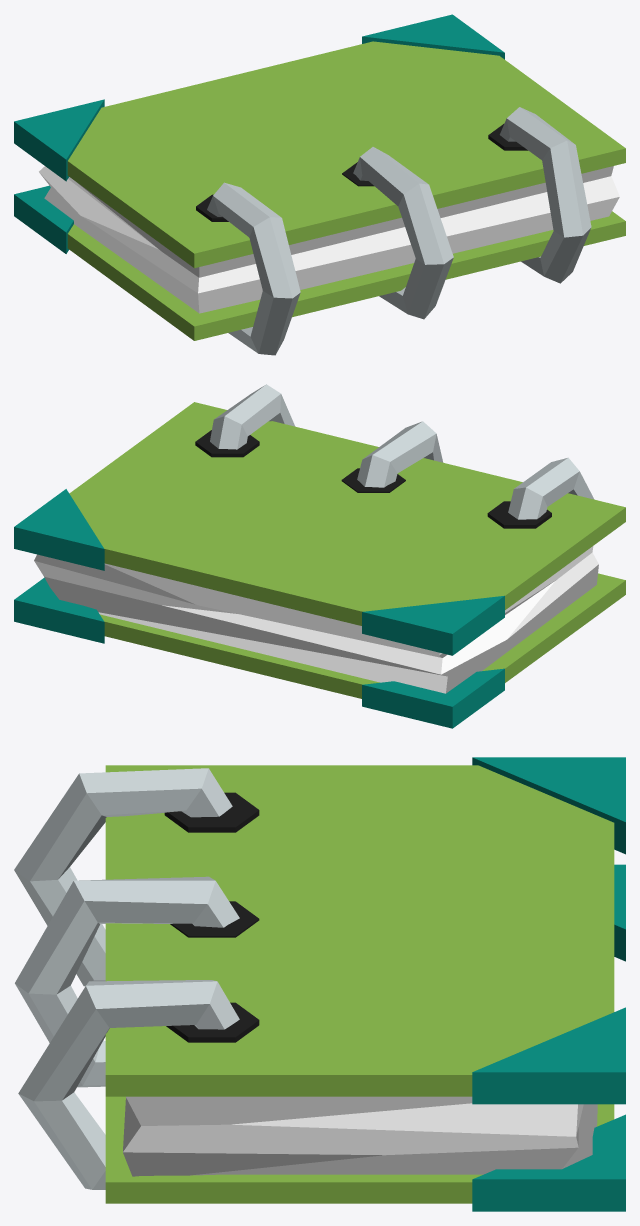
The model's file is notebook.obj.
The picture shows the model from 3 angles, top to bottom: view 1: azimuth 30°, elevation 25°; view 2: azimuth 150°, elevation 25°; view 3: azimuth 270°, elevation 25°; orthographic projection. The views are drawn at different scales.
Parts seen in each view (by area): view 1: group1733019088, group387823543, group1559348394, group81174589, group382559760, group673990593, group2126751848, group1445775804, group1952965966; view 2: group1733019088, group387823543, group1559348394, group2126751848, group1952965966, group1445775804, group2147022704, group81174589, group673990593, group382559760, group1912266361, group2119304424 (+1 smaller); view 3: group1733019088, group387823543, group673990593, group81174589, group382559760, group1559348394, group1445775804, group2147022704, group2126751848, group1912266361, group2119304424, group2001397548 (+1 smaller).
Part boxes in pixels (box(x1,y1,x2,y2)): group1733019088: box(67, 41, 625, 268); group387823543: box(39, 166, 619, 313); group1559348394: box(67, 211, 625, 340); group81174589: box(353, 147, 453, 319); group382559760: box(207, 182, 300, 355); group673990593: box(499, 107, 591, 283); group2126751848: box(14, 99, 104, 181); group1445775804: box(362, 14, 504, 59); group1952965966: box(14, 185, 73, 253); group1733019088: box(69, 402, 625, 625); group387823543: box(34, 546, 598, 693); group1559348394: box(100, 573, 625, 698); group2126751848: box(362, 595, 504, 655); group1952965966: box(362, 668, 504, 728); group1445775804: box(14, 489, 104, 570); group2147022704: box(14, 577, 104, 643); group81174589: box(357, 421, 443, 487); group673990593: box(210, 384, 295, 449); group382559760: box(508, 457, 594, 519); group1912266361: box(487, 501, 551, 528); group2119304424: box(195, 430, 259, 457); group1733019088: box(105, 765, 614, 1096); group387823543: box(123, 1096, 597, 1176); group673990593: box(18, 980, 239, 1189); group81174589: box(15, 876, 239, 1087); group382559760: box(14, 768, 232, 986); group1559348394: box(105, 1096, 614, 1203); group1445775804: box(472, 1007, 625, 1104); group2147022704: box(472, 1114, 625, 1211); group2126751848: box(472, 757, 625, 854); group1912266361: box(164, 792, 259, 832); group2119304424: box(166, 1002, 259, 1042); group2001397548: box(170, 901, 259, 937).
Size of the model in its own units: 0.63 by 0.1991 by 0.5175.
